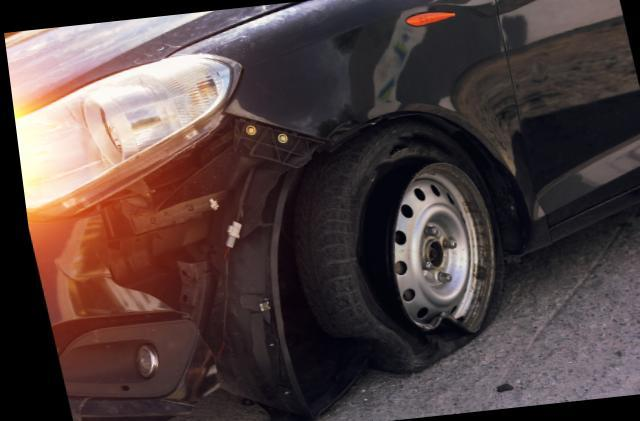no part: (21, 114, 322, 406)
tire flat: (289, 116, 497, 374)
